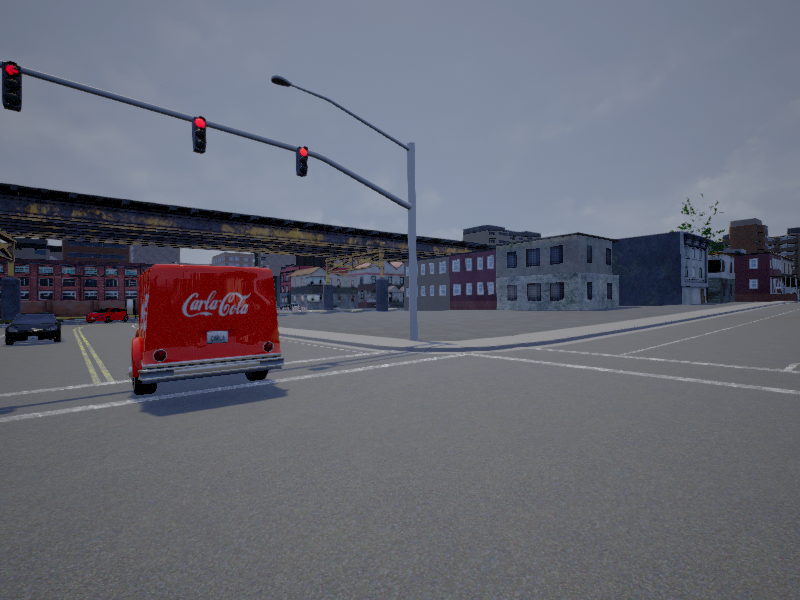Benign: (132, 267, 279, 395), (7, 312, 59, 345), (87, 306, 128, 325)
